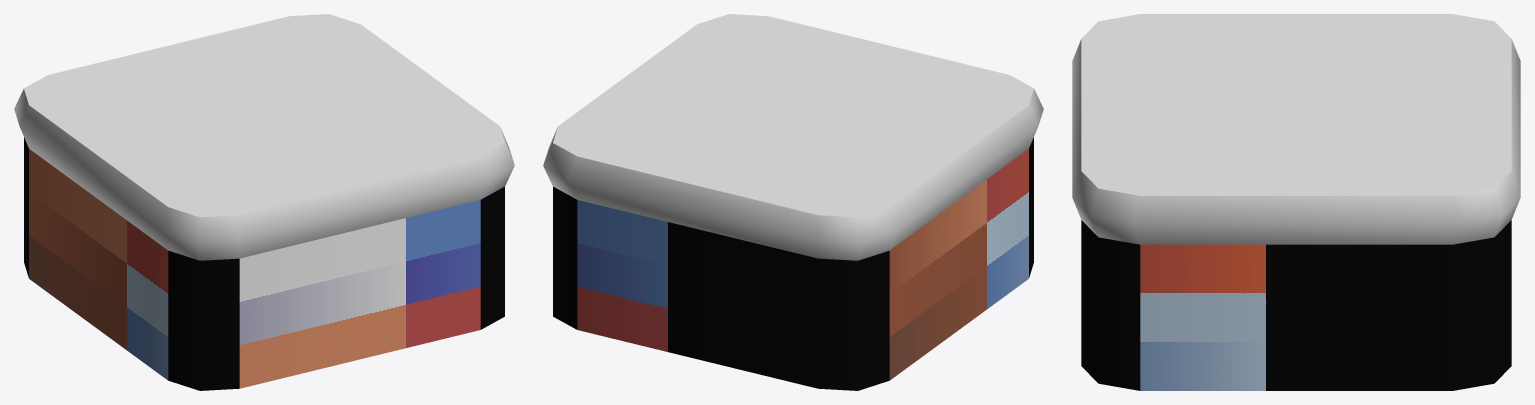
Rendered from block-grass-large.glb.
3 views of the same model, side by side, from view 1: azimuth 30°, elevation 25°; view 2: azimuth 150°, elevation 25°; view 3: azimuth 270°, elevation 25° (orthographic). The views are drawn at different scales.
Visible parts, largest first — view 1: block-grass-large; view 2: block-grass-large; view 3: block-grass-large.
Part boxes in pixels (<box>): block-grass-large: <box>14,14,514,390</box>; block-grass-large: <box>543,14,1043,390</box>; block-grass-large: <box>1072,14,1520,390</box>.
Bounding box in the file's own units: 2.08 × 1 × 2.08.
2 materials, 1 textured.
